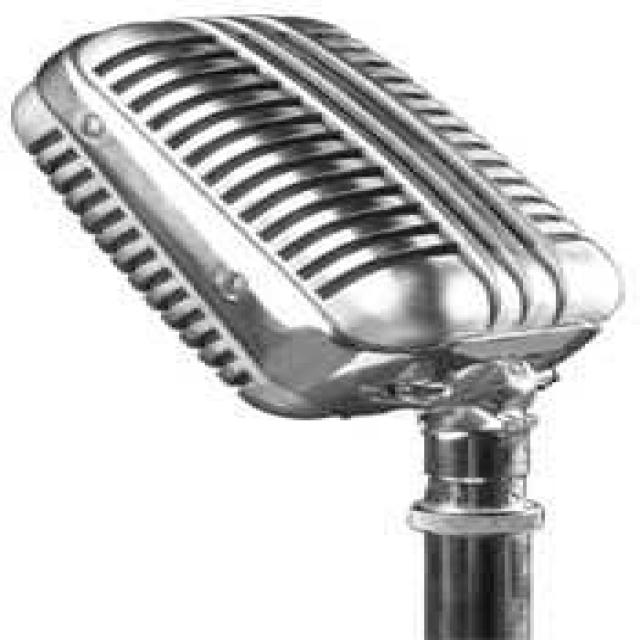microphone: (4, 17, 626, 637)
